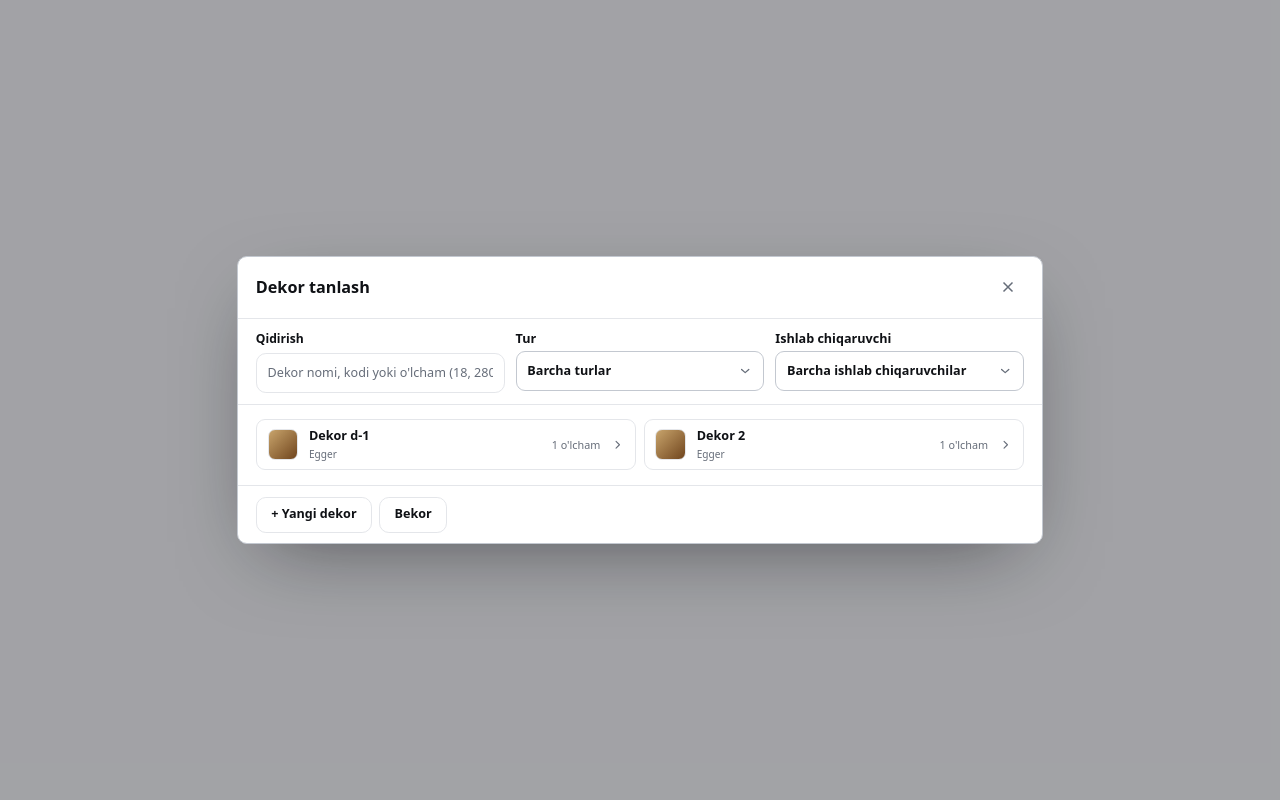
BranchMaterialAttachSheet — one decor at a time › opens step two for the row that was clicked, and for no other decor
The image size is (1280, 800).
Click the button "Dekor 2 Egger 1 o'lcham".
click(671, 445)  # box [644,419,1024,470]
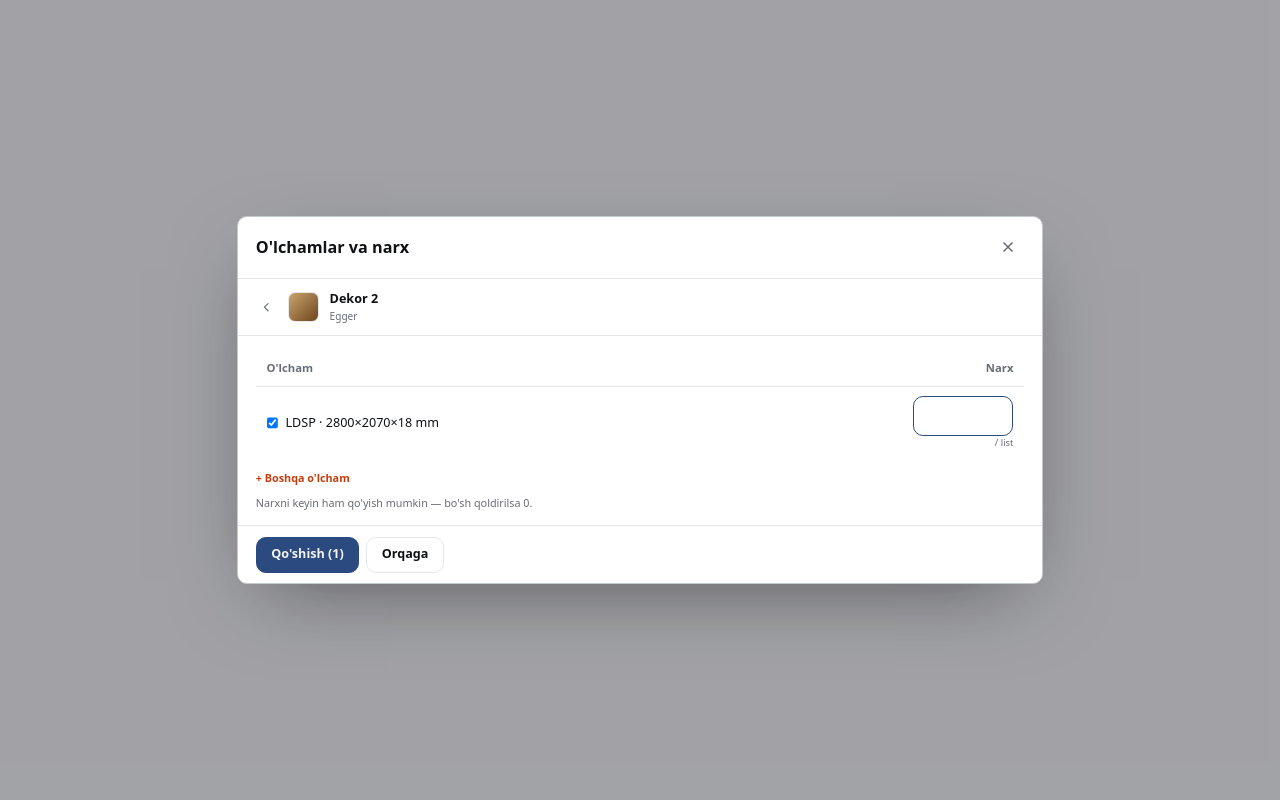
Check: the text "Dekor 2" is shown, box [330,290,378,308]
Check: the number of checkboxes is 1, box [267,417,278,429]
